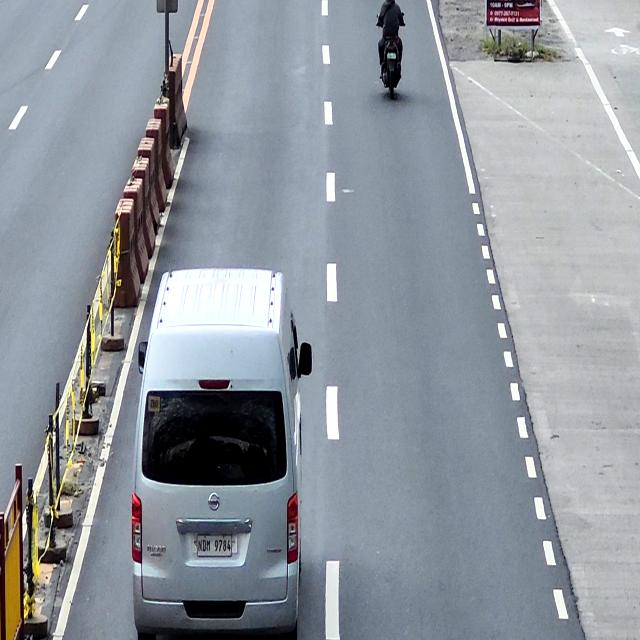Car: (131, 266, 312, 638)
License-Plate: (194, 532, 233, 558), (386, 52, 396, 60)
Motorcycle: (375, 17, 405, 99)
